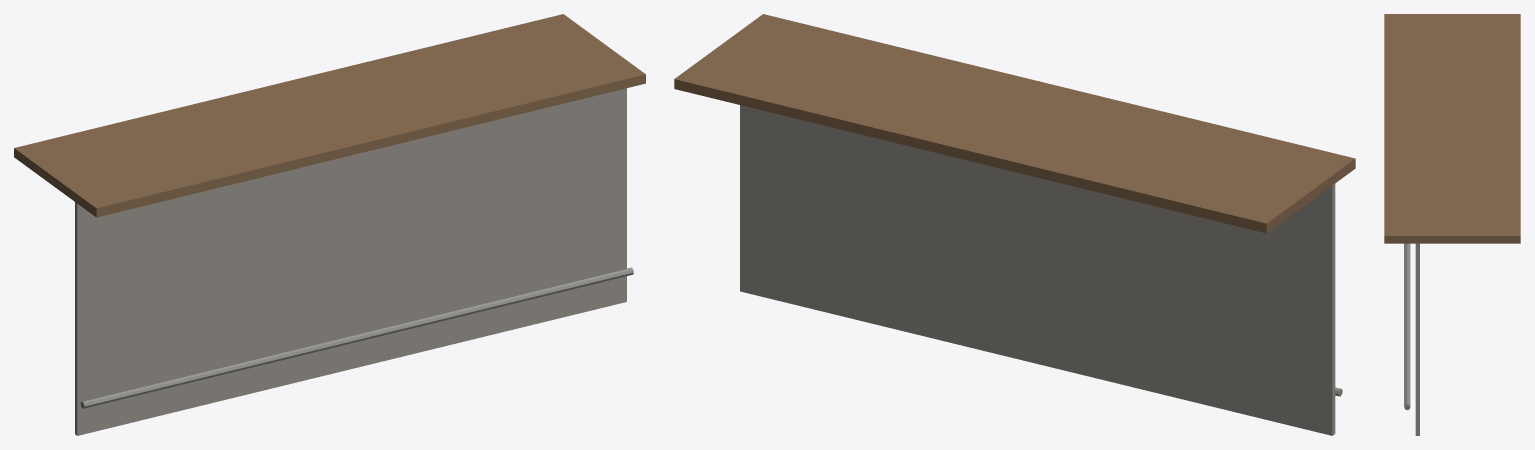
File: bar_counter.glb
3 views of the same model, side by side, from view 1: azimuth 30°, elevation 25°; view 2: azimuth 150°, elevation 25°; view 3: azimuth 270°, elevation 25° (orthographic). The views are drawn at different scales.
Visible parts, largest first — view 1: BarFrontPanel, BarTop, FootrestRail; view 2: BarFrontPanel, BarTop; view 3: BarTop, FootrestRail, BarFrontPanel.
Boxes of the visible parts, left/top/right/bottom form: BarFrontPanel: left=75, top=88, right=626, bottom=435; BarTop: left=14, top=14, right=645, bottom=217; FootrestRail: left=80, top=267, right=633, bottom=408; BarFrontPanel: left=740, top=105, right=1335, bottom=435; BarTop: left=674, top=14, right=1355, bottom=233; BarTop: left=1384, top=14, right=1520, bottom=243; FootrestRail: left=1404, top=243, right=1410, bottom=410; BarFrontPanel: left=1415, top=243, right=1419, bottom=435.
Size of the model in its own units: 2.5 by 1.05 by 0.65.
